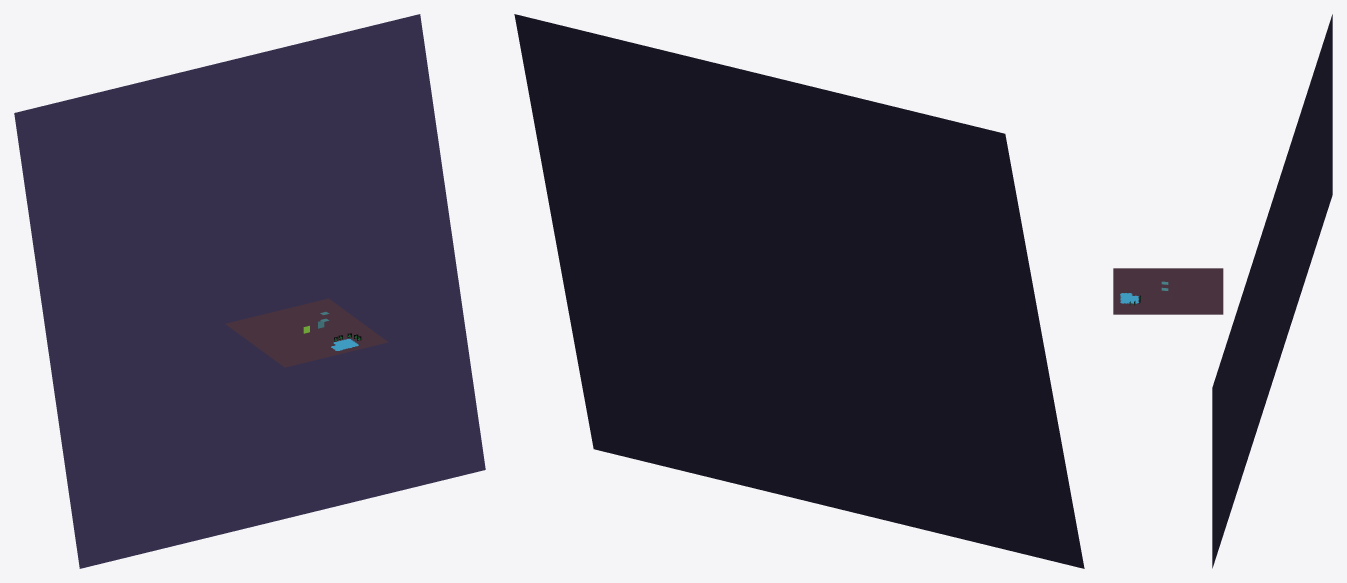
The model's file is map.gltf.
3 renders of one model, left to right at view 1: azimuth 30°, elevation 25°; view 2: azimuth 150°, elevation 25°; view 3: azimuth 270°, elevation 25°, orthographic. The views are drawn at different scales.
Visible parts, largest first — view 1: Plane.006, Plane; view 2: Plane.006; view 3: Plane.006, Plane.
Boxes of the visible parts, x1=… form: Plane.006: x1=14, y1=14, x2=485, y2=568; Plane: x1=225, y1=298, x2=388, y2=367; Plane.006: x1=514, y1=14, x2=1084, y2=568; Plane.006: x1=1212, y1=14, x2=1332, y2=568; Plane: x1=1113, y1=268, x2=1223, y2=314.
Bounding box in the file's own units: 128 × 123 × 65.43.
Materials: 3 (3 with a texture image).
